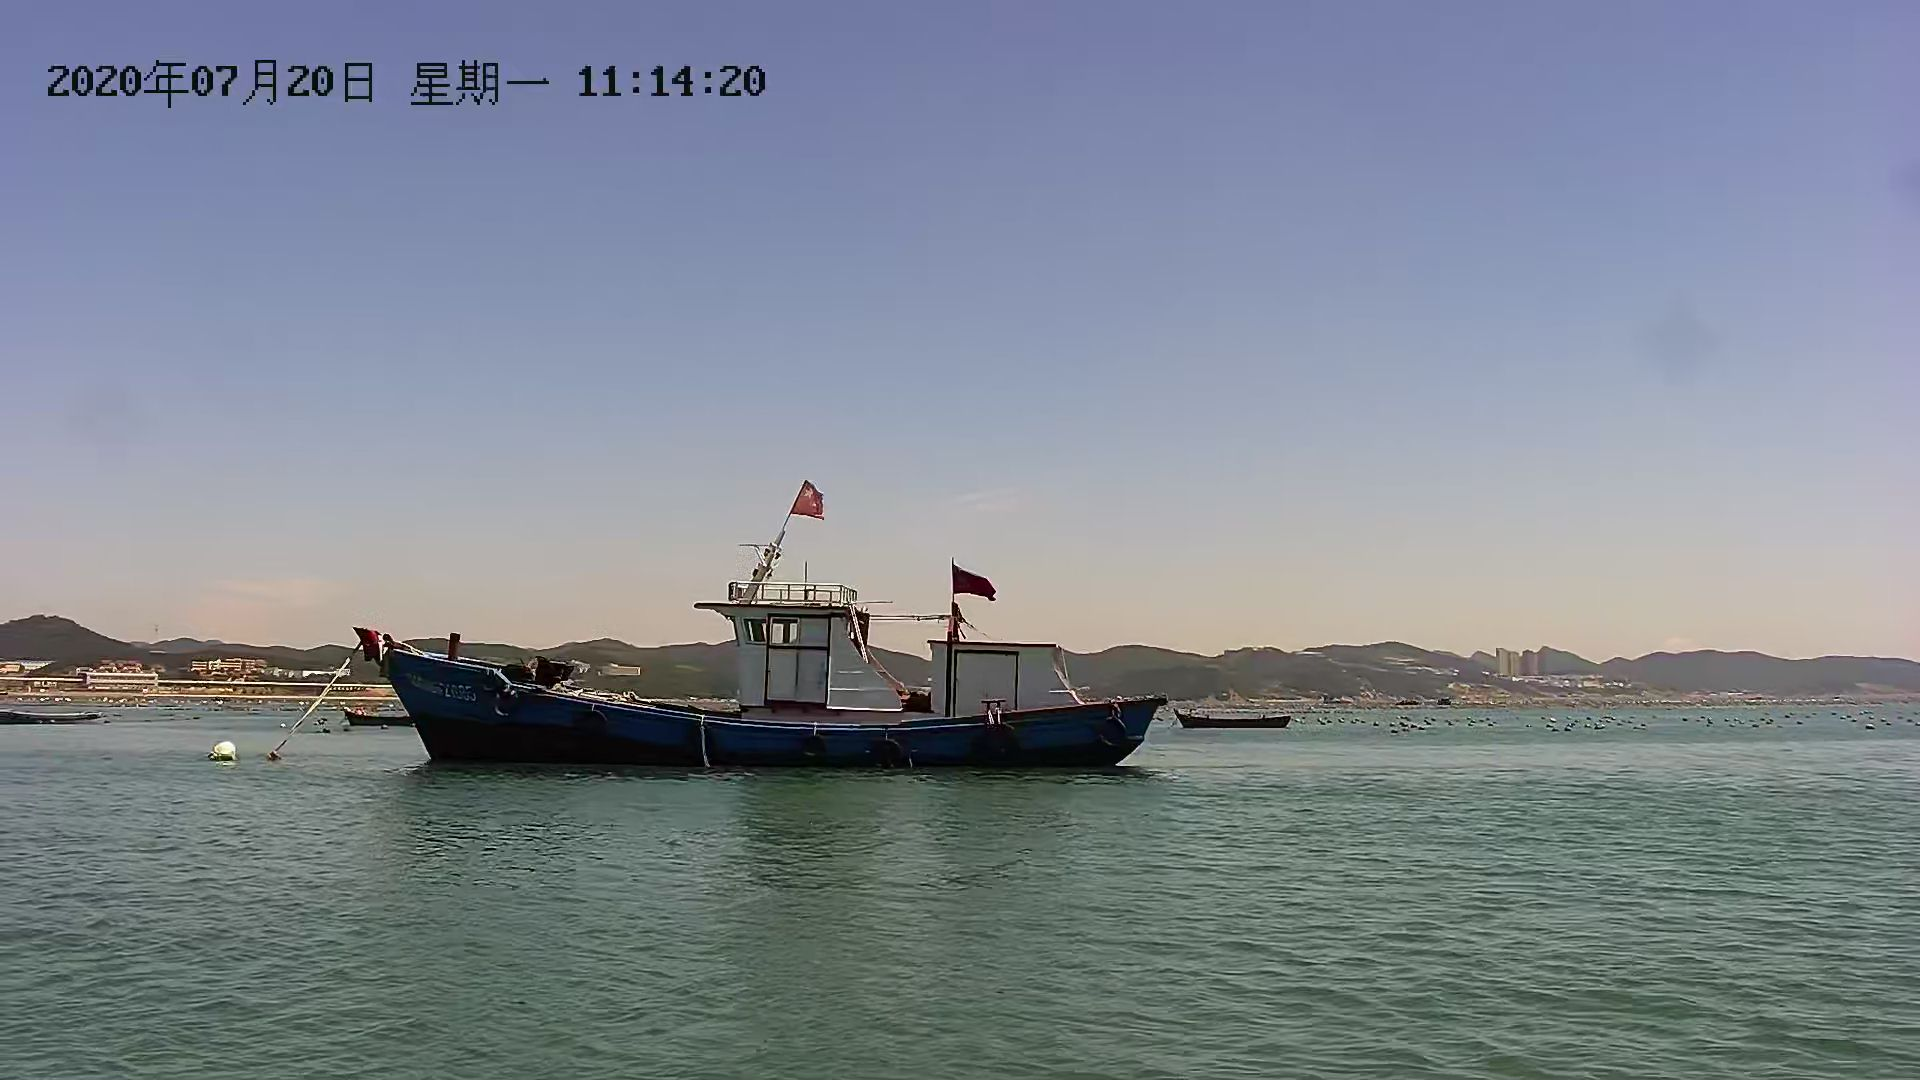ball: (206, 741, 255, 767)
boat: (338, 559, 1166, 781), (1171, 705, 1304, 735), (326, 698, 425, 736)
